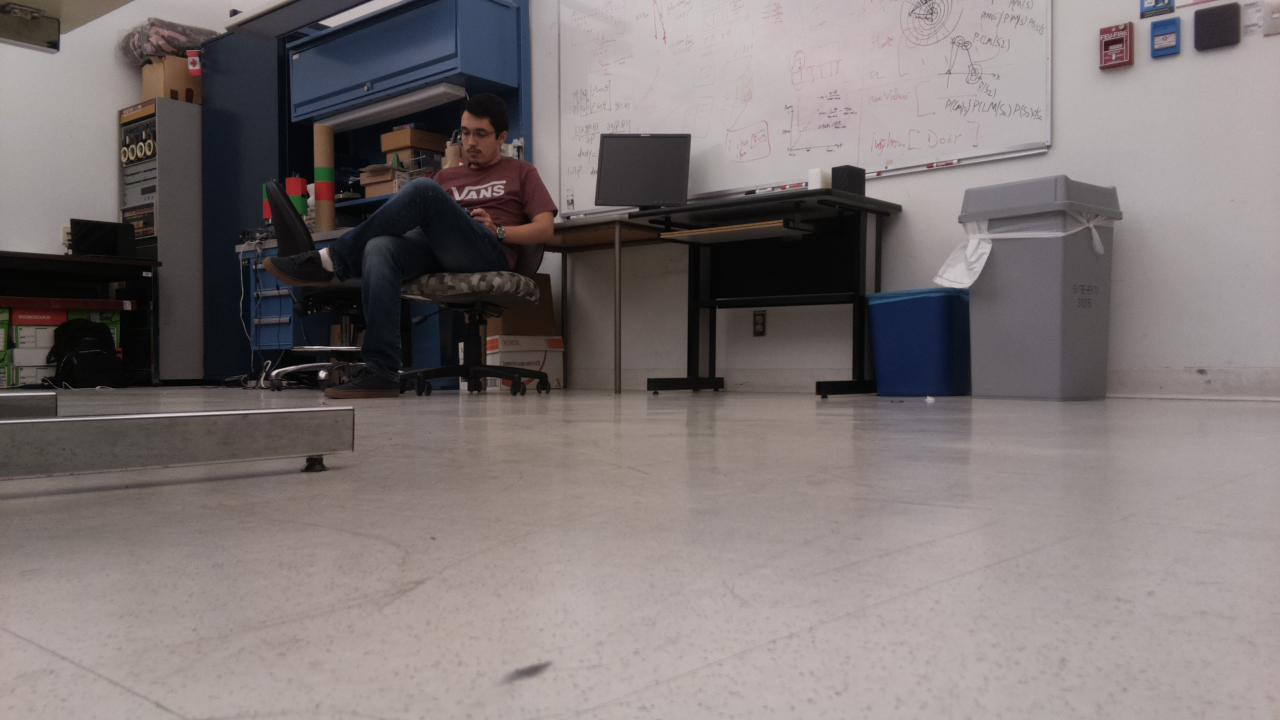person: (263, 94, 559, 399)
tvmonitor: (595, 133, 690, 204), (70, 218, 134, 259)
